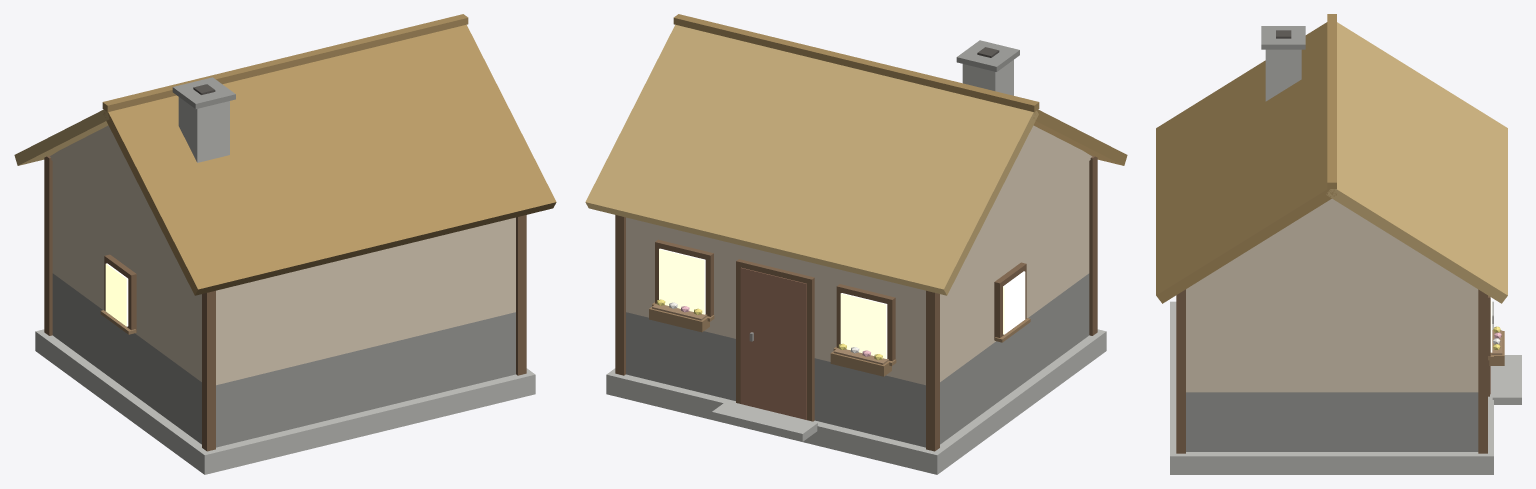
File: village_cottage_b.glb
3 views of the same model, side by side, from view 1: azimuth 30°, elevation 25°; view 2: azimuth 150°, elevation 25°; view 3: azimuth 270°, elevation 25° (orthographic). The views are drawn at different scales.
Visible parts, largest first — view 1: village_cottage_b; view 2: village_cottage_b; view 3: village_cottage_b.
Part boxes in pixels (x1=…): village_cottage_b: x1=14, y1=14, x2=556, y2=474; village_cottage_b: x1=585, y1=14, x2=1127, y2=474; village_cottage_b: x1=1156, y1=14, x2=1521, y2=474.
Bounding box in the file's own units: 5.76 × 5.01 × 5.28.
